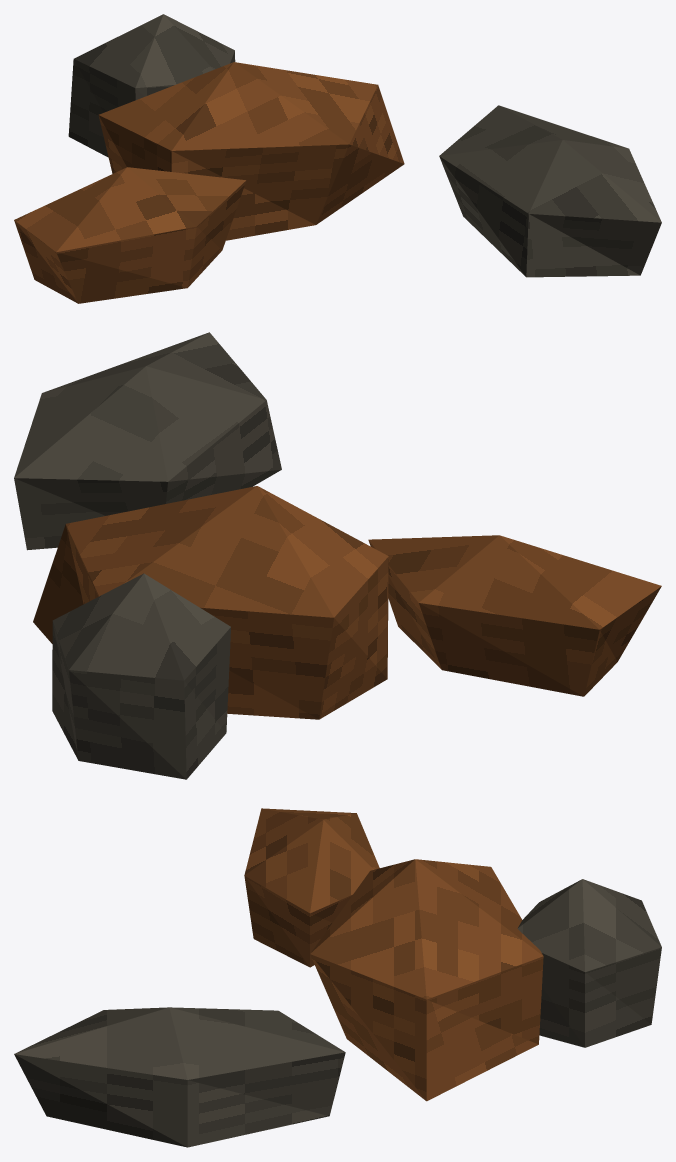
File: escombros.glb
3 views of the same model, one above another, from view 1: azimuth 30°, elevation 25°; view 2: azimuth 150°, elevation 25°; view 3: azimuth 270°, elevation 25° (orthographic). The views are drawn at different scales.
Parts seen in each view (by area): view 1: piedras_2, piedras; view 2: piedras_2, piedras; view 3: piedras_2, piedras.
Part boxes in pixels (box(x1,y1,x2,y2)): piedras_2: box(14, 62, 404, 303); piedras: box(68, 14, 661, 277); piedras_2: box(33, 486, 661, 719); piedras: box(14, 332, 281, 779); piedras_2: box(244, 808, 543, 1101); piedras: box(14, 879, 661, 1147).
Bounding box in the file's own units: 3 × 0.8 × 3.
1 material, 1 textured.
